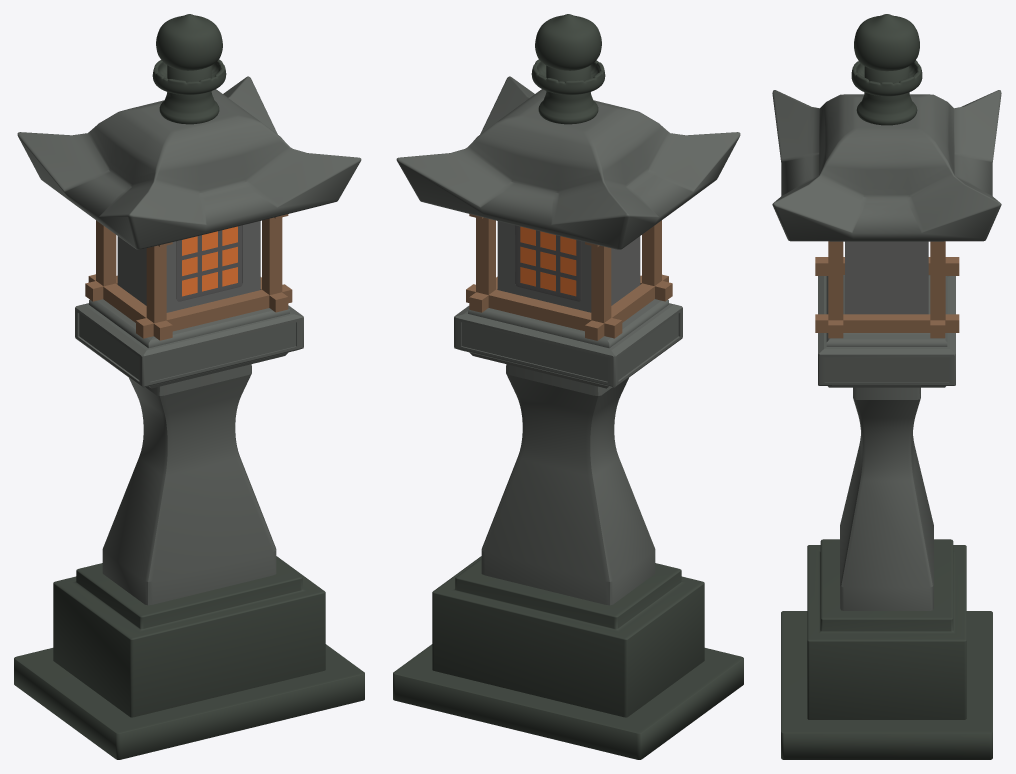
File: Lantern.fbx
The picture shows the model from 3 angles, left to right: view 1: azimuth 30°, elevation 25°; view 2: azimuth 150°, elevation 25°; view 3: azimuth 270°, elevation 25°; orthographic projection.
Parts seen in each view (by area): view 1: Roof light, Base middle, PILLAR, Base under, Base lamp, Left.002, Base lamp.004, Cube.001, Front, see trough plate.001, Cylinder, deksel.001 (+2 smaller); view 2: Roof light, Base middle, PILLAR, Base under, Base lamp, Left.002, Base lamp.004, Cube.001, back, see trough plate.001, Cylinder, deksel.001 (+2 smaller); view 3: Roof light, Base middle, PILLAR, Base under, Base lamp, Base lamp.004, Cube.001, Left.002, right, Cylinder, Cylinder.001, Left.
Boxes of the visible parts, x1,y1,x2,y2 form: Roof light: [17, 76, 361, 249]; Base middle: [53, 556, 325, 717]; PILLAR: [102, 364, 276, 605]; Base under: [14, 644, 364, 759]; Base lamp: [75, 299, 303, 388]; Left.002: [96, 217, 282, 323]; Base lamp.004: [117, 221, 260, 312]; Cube.001: [156, 14, 222, 70]; Front: [136, 284, 292, 338]; see trough plate.001: [182, 226, 237, 296]; Cylinder: [159, 65, 219, 124]; deksel.001: [176, 225, 242, 301]; Roof light: [396, 76, 740, 249]; Base middle: [432, 556, 704, 717]; PILLAR: [481, 364, 655, 605]; Base under: [393, 644, 743, 759]; Base lamp: [454, 299, 682, 388]; Left.002: [476, 217, 661, 323]; Base lamp.004: [497, 221, 640, 312]; Cube.001: [535, 14, 601, 70]; back: [466, 284, 622, 338]; see trough plate.001: [520, 226, 576, 296]; Cylinder: [538, 65, 598, 124]; deksel.001: [515, 225, 581, 301]; Roof light: [772, 90, 1001, 241]; Base middle: [807, 539, 966, 719]; PILLAR: [840, 387, 933, 610]; Base under: [781, 611, 992, 759]; Base lamp: [818, 275, 955, 387]; Base lamp.004: [845, 241, 928, 314]; Cube.001: [854, 14, 919, 71]; Left.002: [828, 241, 945, 320]; right: [815, 314, 959, 332]; Cylinder: [856, 66, 917, 125]; Cylinder.001: [851, 60, 922, 96]; Left: [815, 257, 959, 275].
Bounding box in the file's own units: 172 × 449 × 136.
